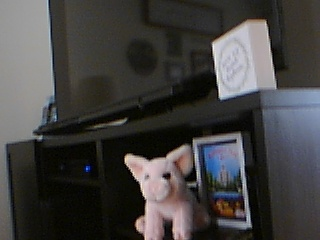piggy: (122, 144, 212, 240)
